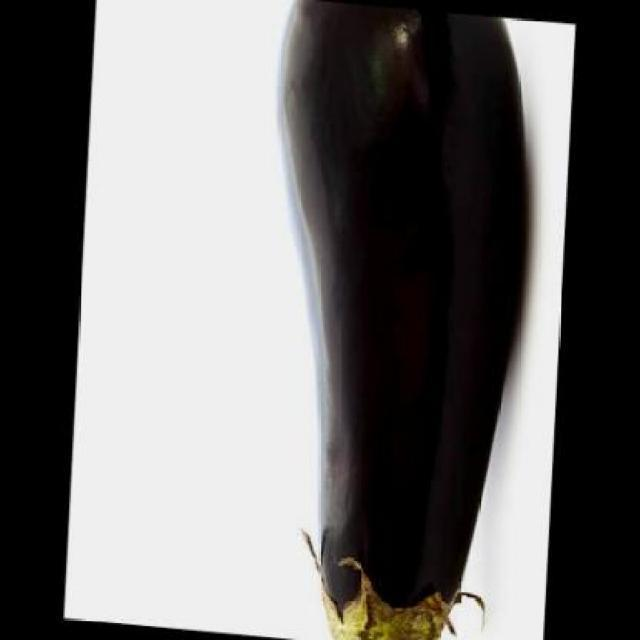eggplant: (247, 0, 540, 638)
